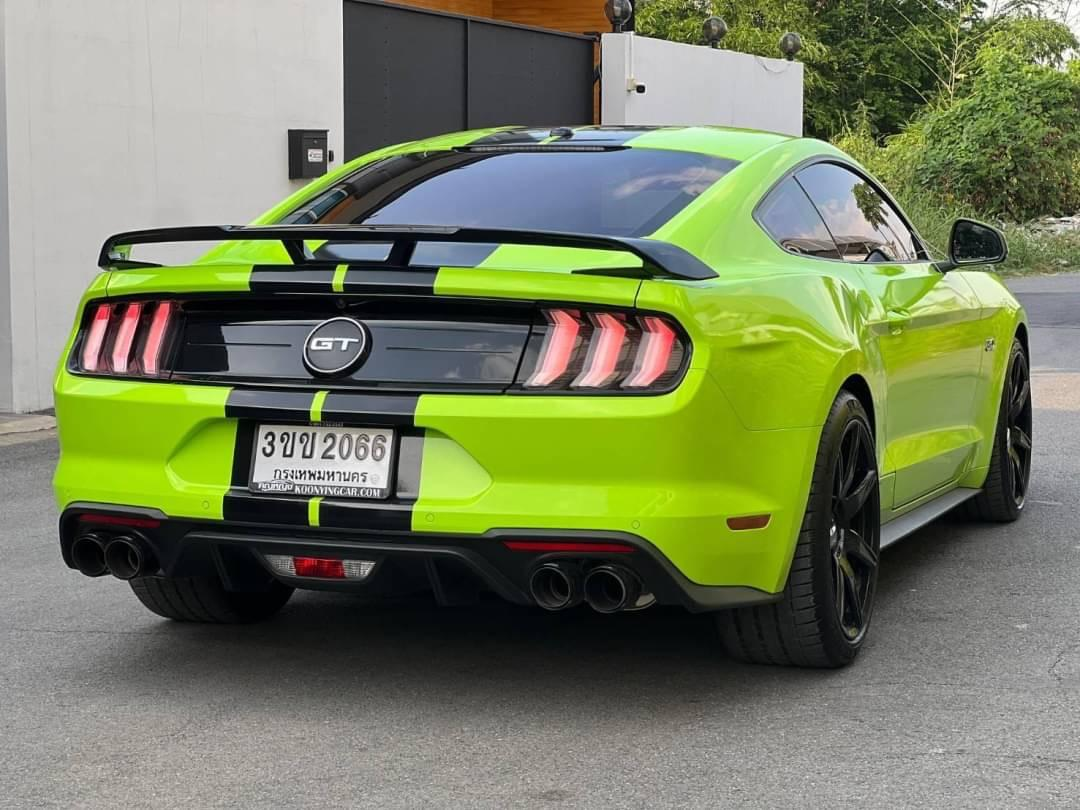license-plate: (245, 416, 402, 502)
